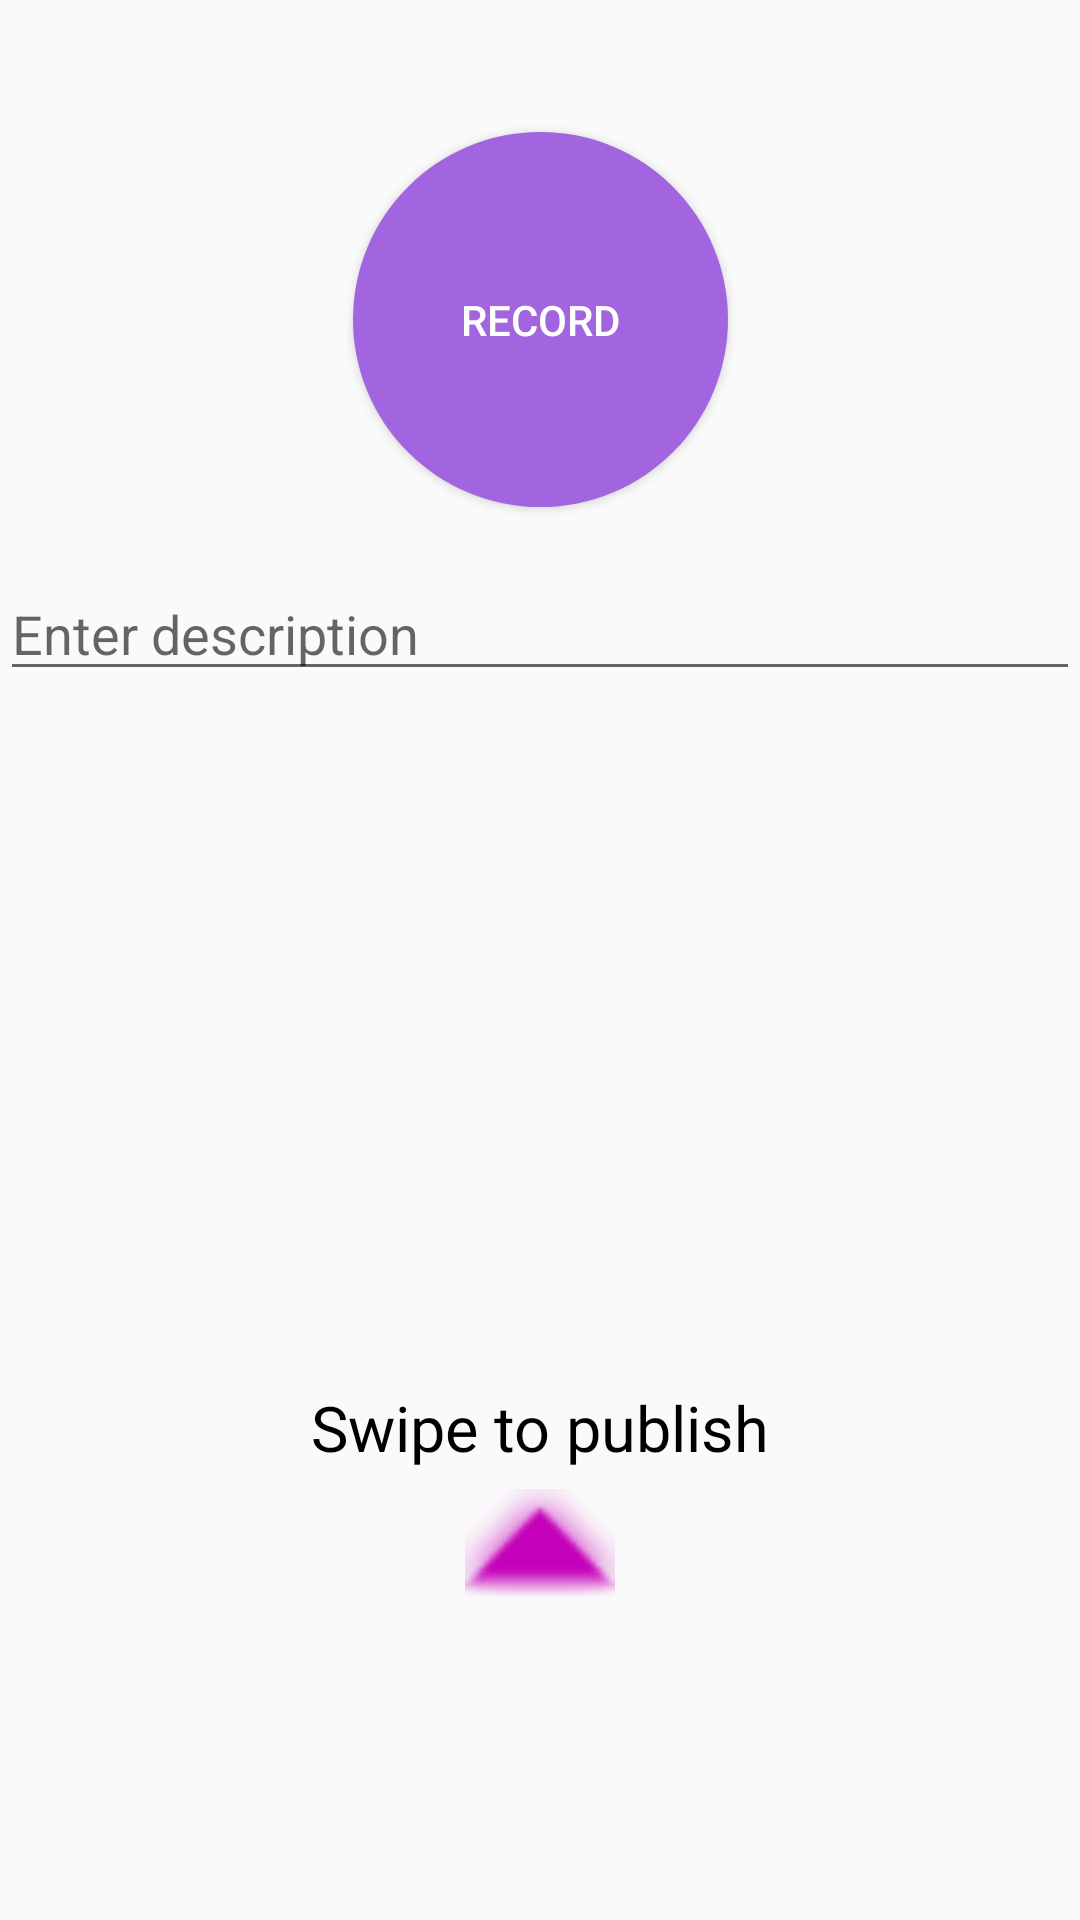

Named icons in this screenshot (1080 x 1920) and their bounding boxes, bbox(x1, y1, x2, y2):
arrow up float: bbox(465, 1493, 615, 1595)
